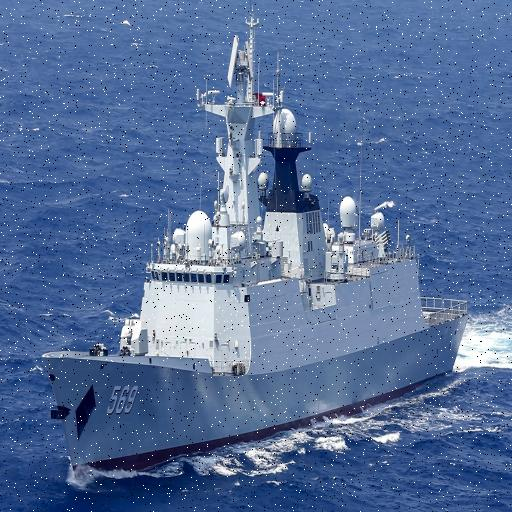Fragata: (1, 3, 305, 491)
